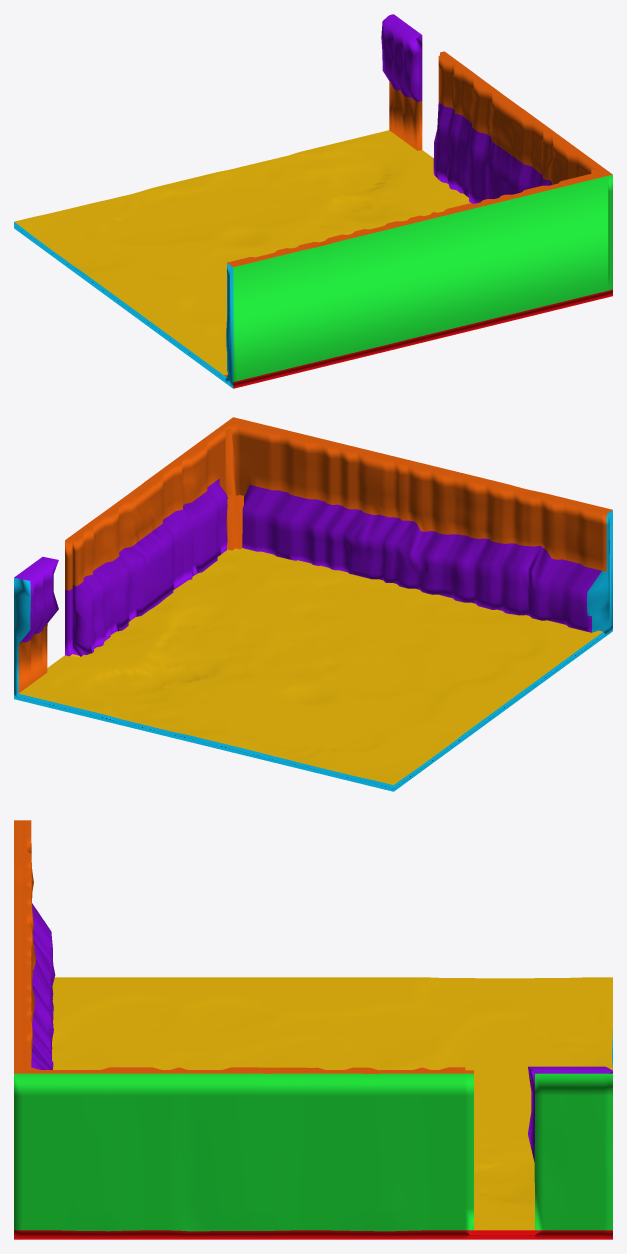
The model's file is plataforma.fbx.
3 views of the same model, one above another, from view 1: azimuth 30°, elevation 25°; view 2: azimuth 150°, elevation 25°; view 3: azimuth 270°, elevation 25° (orthographic). The views are drawn at different scales.
Visible parts, largest first — view 1: Cube; view 2: Cube; view 3: Cube.
Boxes of the visible parts, left/top/right/bottom form: Cube: left=14, top=14, right=612, bottom=388; Cube: left=14, top=417, right=612, bottom=791; Cube: left=14, top=820, right=612, bottom=1239.
Size of the model in its own units: 10.38 by 3.19 by 10.41.
